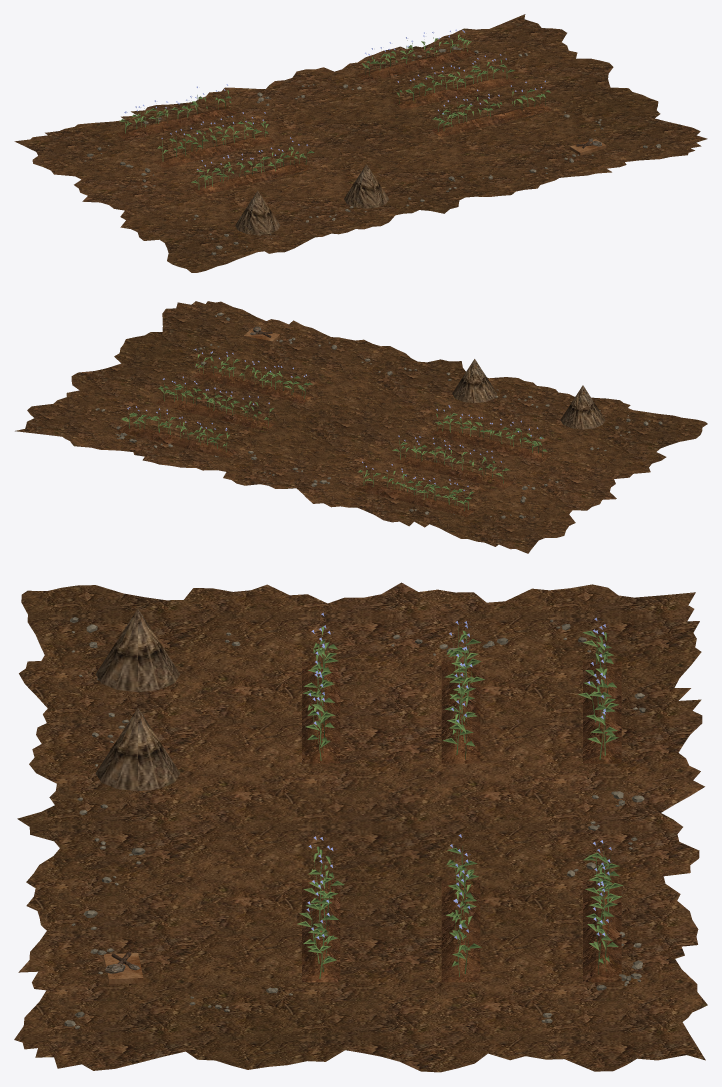
File: flax_farm.glb
The picture shows the model from 3 angles, top to bottom: view 1: azimuth 30°, elevation 25°; view 2: azimuth 150°, elevation 25°; view 3: azimuth 270°, elevation 25°; orthographic projection. The views are drawn at different scales.
Parts seen in each view (by area): view 1: part_0, part_2, part_3, part_4, part_1; view 2: part_0, part_2, part_3, part_4, part_1; view 3: part_0, part_2, part_3, part_4, part_1, part_5.
Boxes of the visible parts, bbox=[...] form: part_0: bbox=[14, 14, 707, 272]; part_2: bbox=[116, 48, 552, 195]; part_3: bbox=[119, 29, 550, 189]; part_4: bbox=[235, 164, 388, 235]; part_1: bbox=[84, 46, 660, 255]; part_0: bbox=[15, 301, 707, 553]; part_2: bbox=[117, 369, 551, 516]; part_3: bbox=[121, 348, 547, 510]; part_4: bbox=[452, 359, 605, 429]; part_1: bbox=[95, 312, 662, 518]; part_0: bbox=[14, 582, 707, 1072]; part_2: bbox=[302, 661, 621, 982]; part_3: bbox=[297, 612, 623, 978]; part_4: bbox=[95, 609, 180, 791]; part_1: bbox=[64, 617, 645, 1029]; part_5: bbox=[103, 953, 143, 984].
Bounding box in the file's own units: 9.89 × 0.661 × 5.92.
9 materials, 7 textured.
